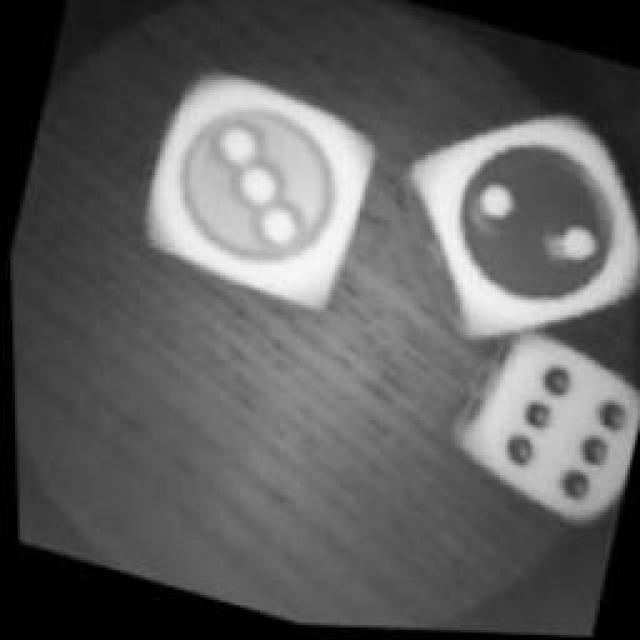dice_2: (380, 75, 640, 373)
dice_3: (119, 51, 401, 329)
dice_6: (444, 325, 638, 535)
